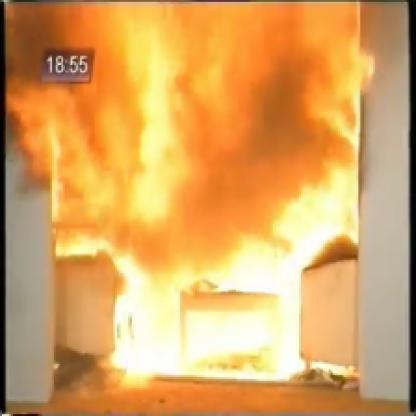fire: (16, 2, 370, 375)
